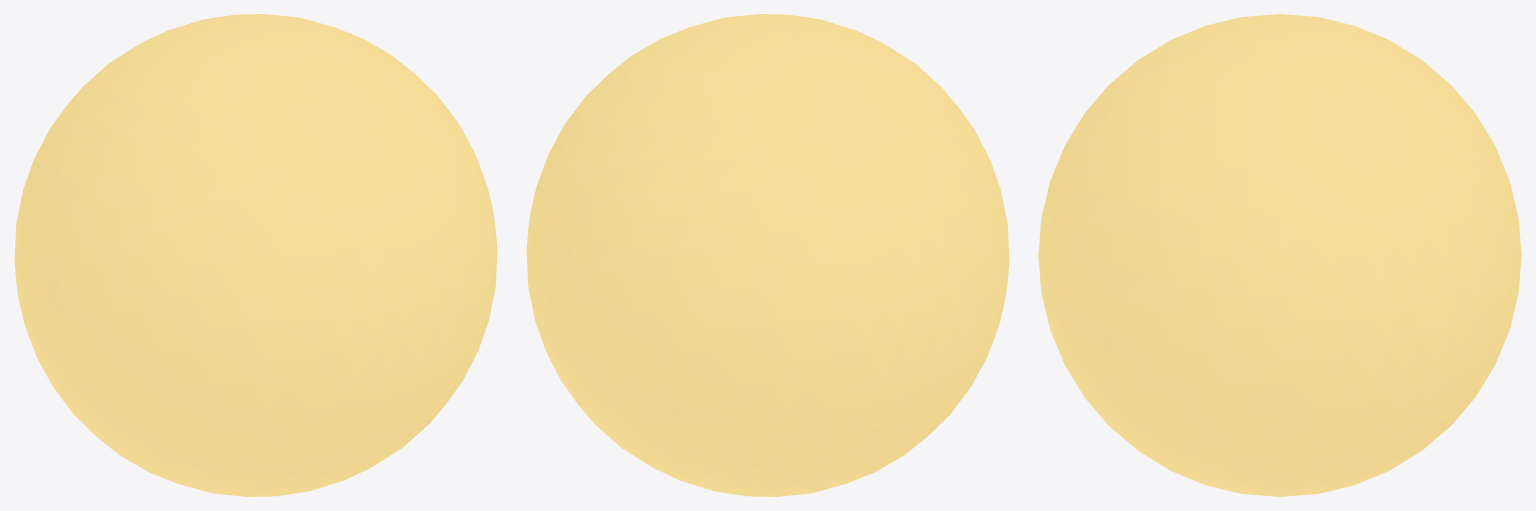
File: ENV_Star_Yellow_01.glb
3 renders of one model, left to right at view 1: azimuth 30°, elevation 25°; view 2: azimuth 150°, elevation 25°; view 3: azimuth 270°, elevation 25°, orthographic.
Visible parts, largest first — view 1: ENV_Star_Yellow_01; view 2: ENV_Star_Yellow_01; view 3: ENV_Star_Yellow_01.
Part boxes in pixels (x1=…): ENV_Star_Yellow_01: x1=14, y1=14, x2=497, y2=496; ENV_Star_Yellow_01: x1=526, y1=14, x2=1009, y2=496; ENV_Star_Yellow_01: x1=1038, y1=14, x2=1521, y2=496.
Bounding box in the file's own units: 3264 × 3264 × 3264.
